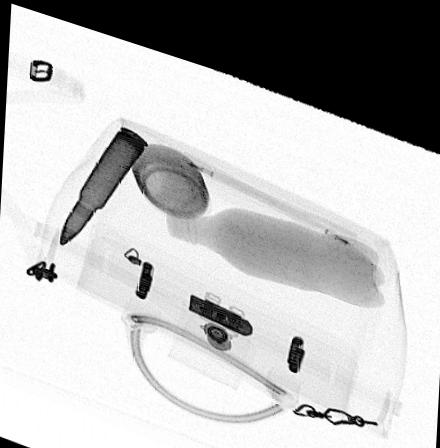Bullet: (60, 118, 149, 244)
